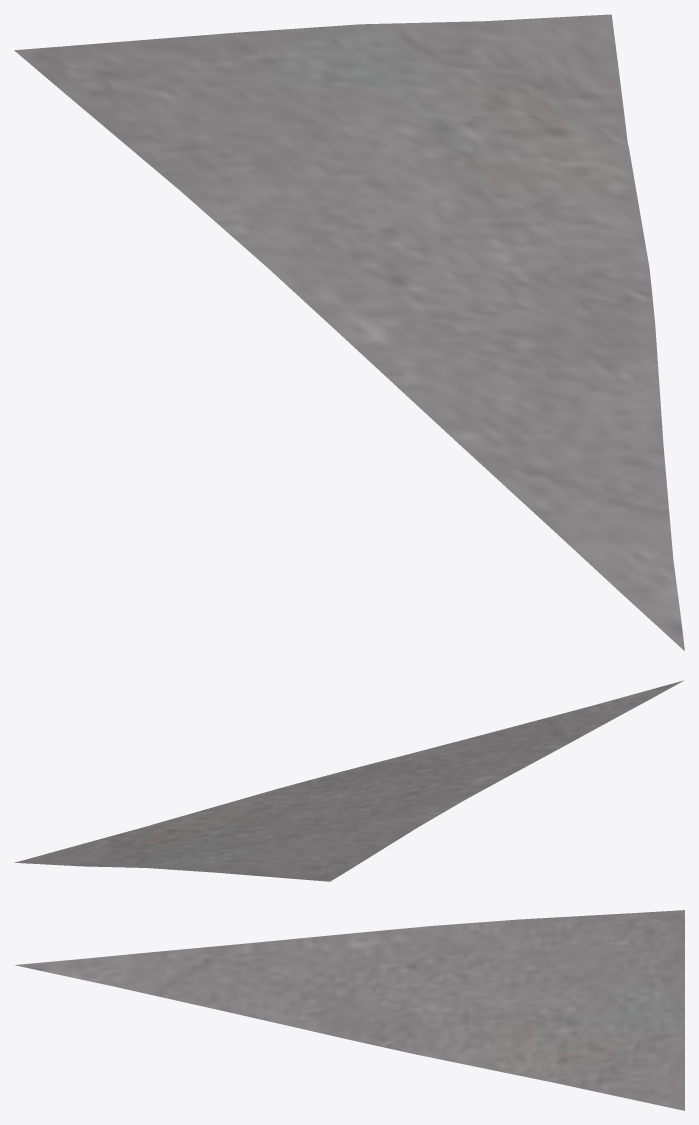
3 renders of one model, top to bottom at view 1: azimuth 30°, elevation 25°; view 2: azimuth 150°, elevation 25°; view 3: azimuth 270°, elevation 25°, orthographic. The views are drawn at different scales.
Bounding box in the file's own units: 1.7 × 0.2994 × 3.31.
1 material, 1 textured.
